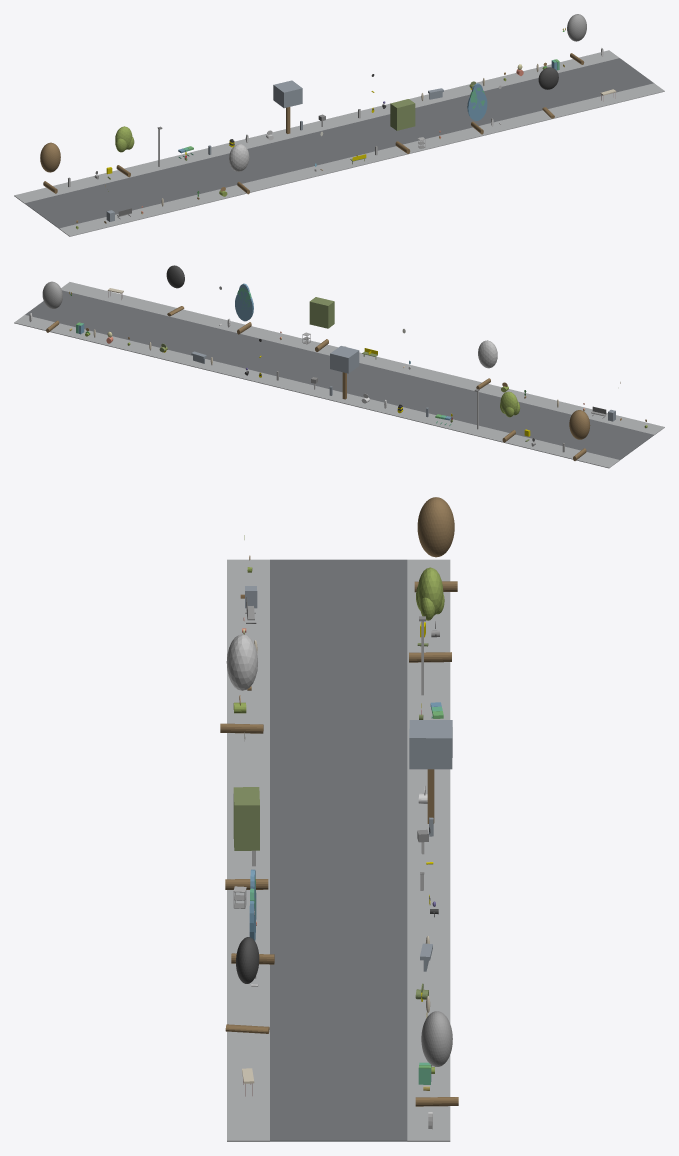
3 renders of one model, top to bottom at view 1: azimuth 30°, elevation 25°; view 2: azimuth 150°, elevation 25°; view 3: azimuth 270°, elevation 25°, orthographic. The views are drawn at different scales.
Visible parts, largest first — view 1: road_slab, sidewalk_left, sidewalk_right, inst_0022, inst_0021, inst_0023, inst_0018, inst_0020, inst_0025, inst_0019, inst_0024; view 2: road_slab, sidewalk_right, sidewalk_left, inst_0022, inst_0021, inst_0023, inst_0018, inst_0020, inst_0025, inst_0019, inst_0024; view 3: road_slab, sidewalk_left, sidewalk_right, inst_0021, inst_0022, inst_0018, inst_0020, inst_0025, inst_0019, inst_0024.
Boxes of the visible parts, x1,y1,x2,y2 form: road_slab: (25,58,653,228); sidewalk_left: (59,83,664,236); sidewalk_right: (14,50,619,203); inst_0022: (390,99,415,153); inst_0021: (273,80,302,133); inst_0023: (467,83,487,134); inst_0018: (40,142,60,193); inst_0020: (229,144,249,194); inst_0025: (567,14,586,64); inst_0019: (115,126,134,177); inst_0024: (538,67,558,118); road_slab: (25,290,653,459); sidewalk_right: (14,315,619,468); sidewalk_left: (61,282,664,434); inst_0022: (309,297,334,351); inst_0021: (330,346,359,399); inst_0023: (235,283,253,334); inst_0018: (569,410,590,460); inst_0020: (476,340,497,389); inst_0025: (42,281,62,332); inst_0019: (500,391,520,442); inst_0024: (166,265,184,316); road_slab: (270,559,407,1141); sidewalk_left: (227,559,269,1141); sidewalk_right: (407,559,450,1141); inst_0021: (409,720,452,823); inst_0022: (225,787,268,889); inst_0018: (414,497,457,592); inst_0020: (220,634,263,733); inst_0025: (415,1011,458,1106); inst_0019: (409,567,451,662); inst_0024: (225,937,269,1033).
Size of the model in its own units: 80 by 6.08 by 13.87.
